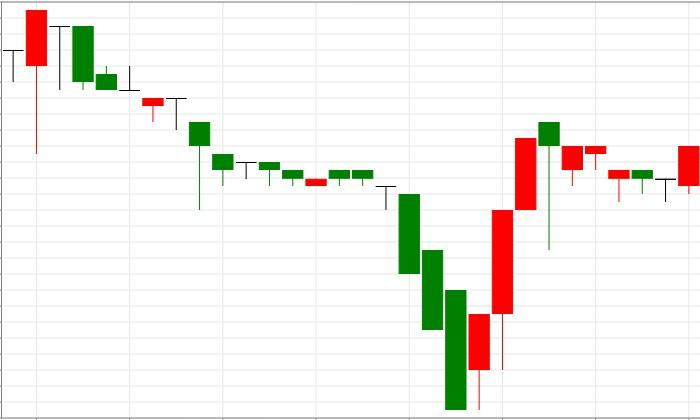hanging_man_fall: (468, 122, 559, 410)
three_white_soldiers_rise: (329, 137, 537, 411)
